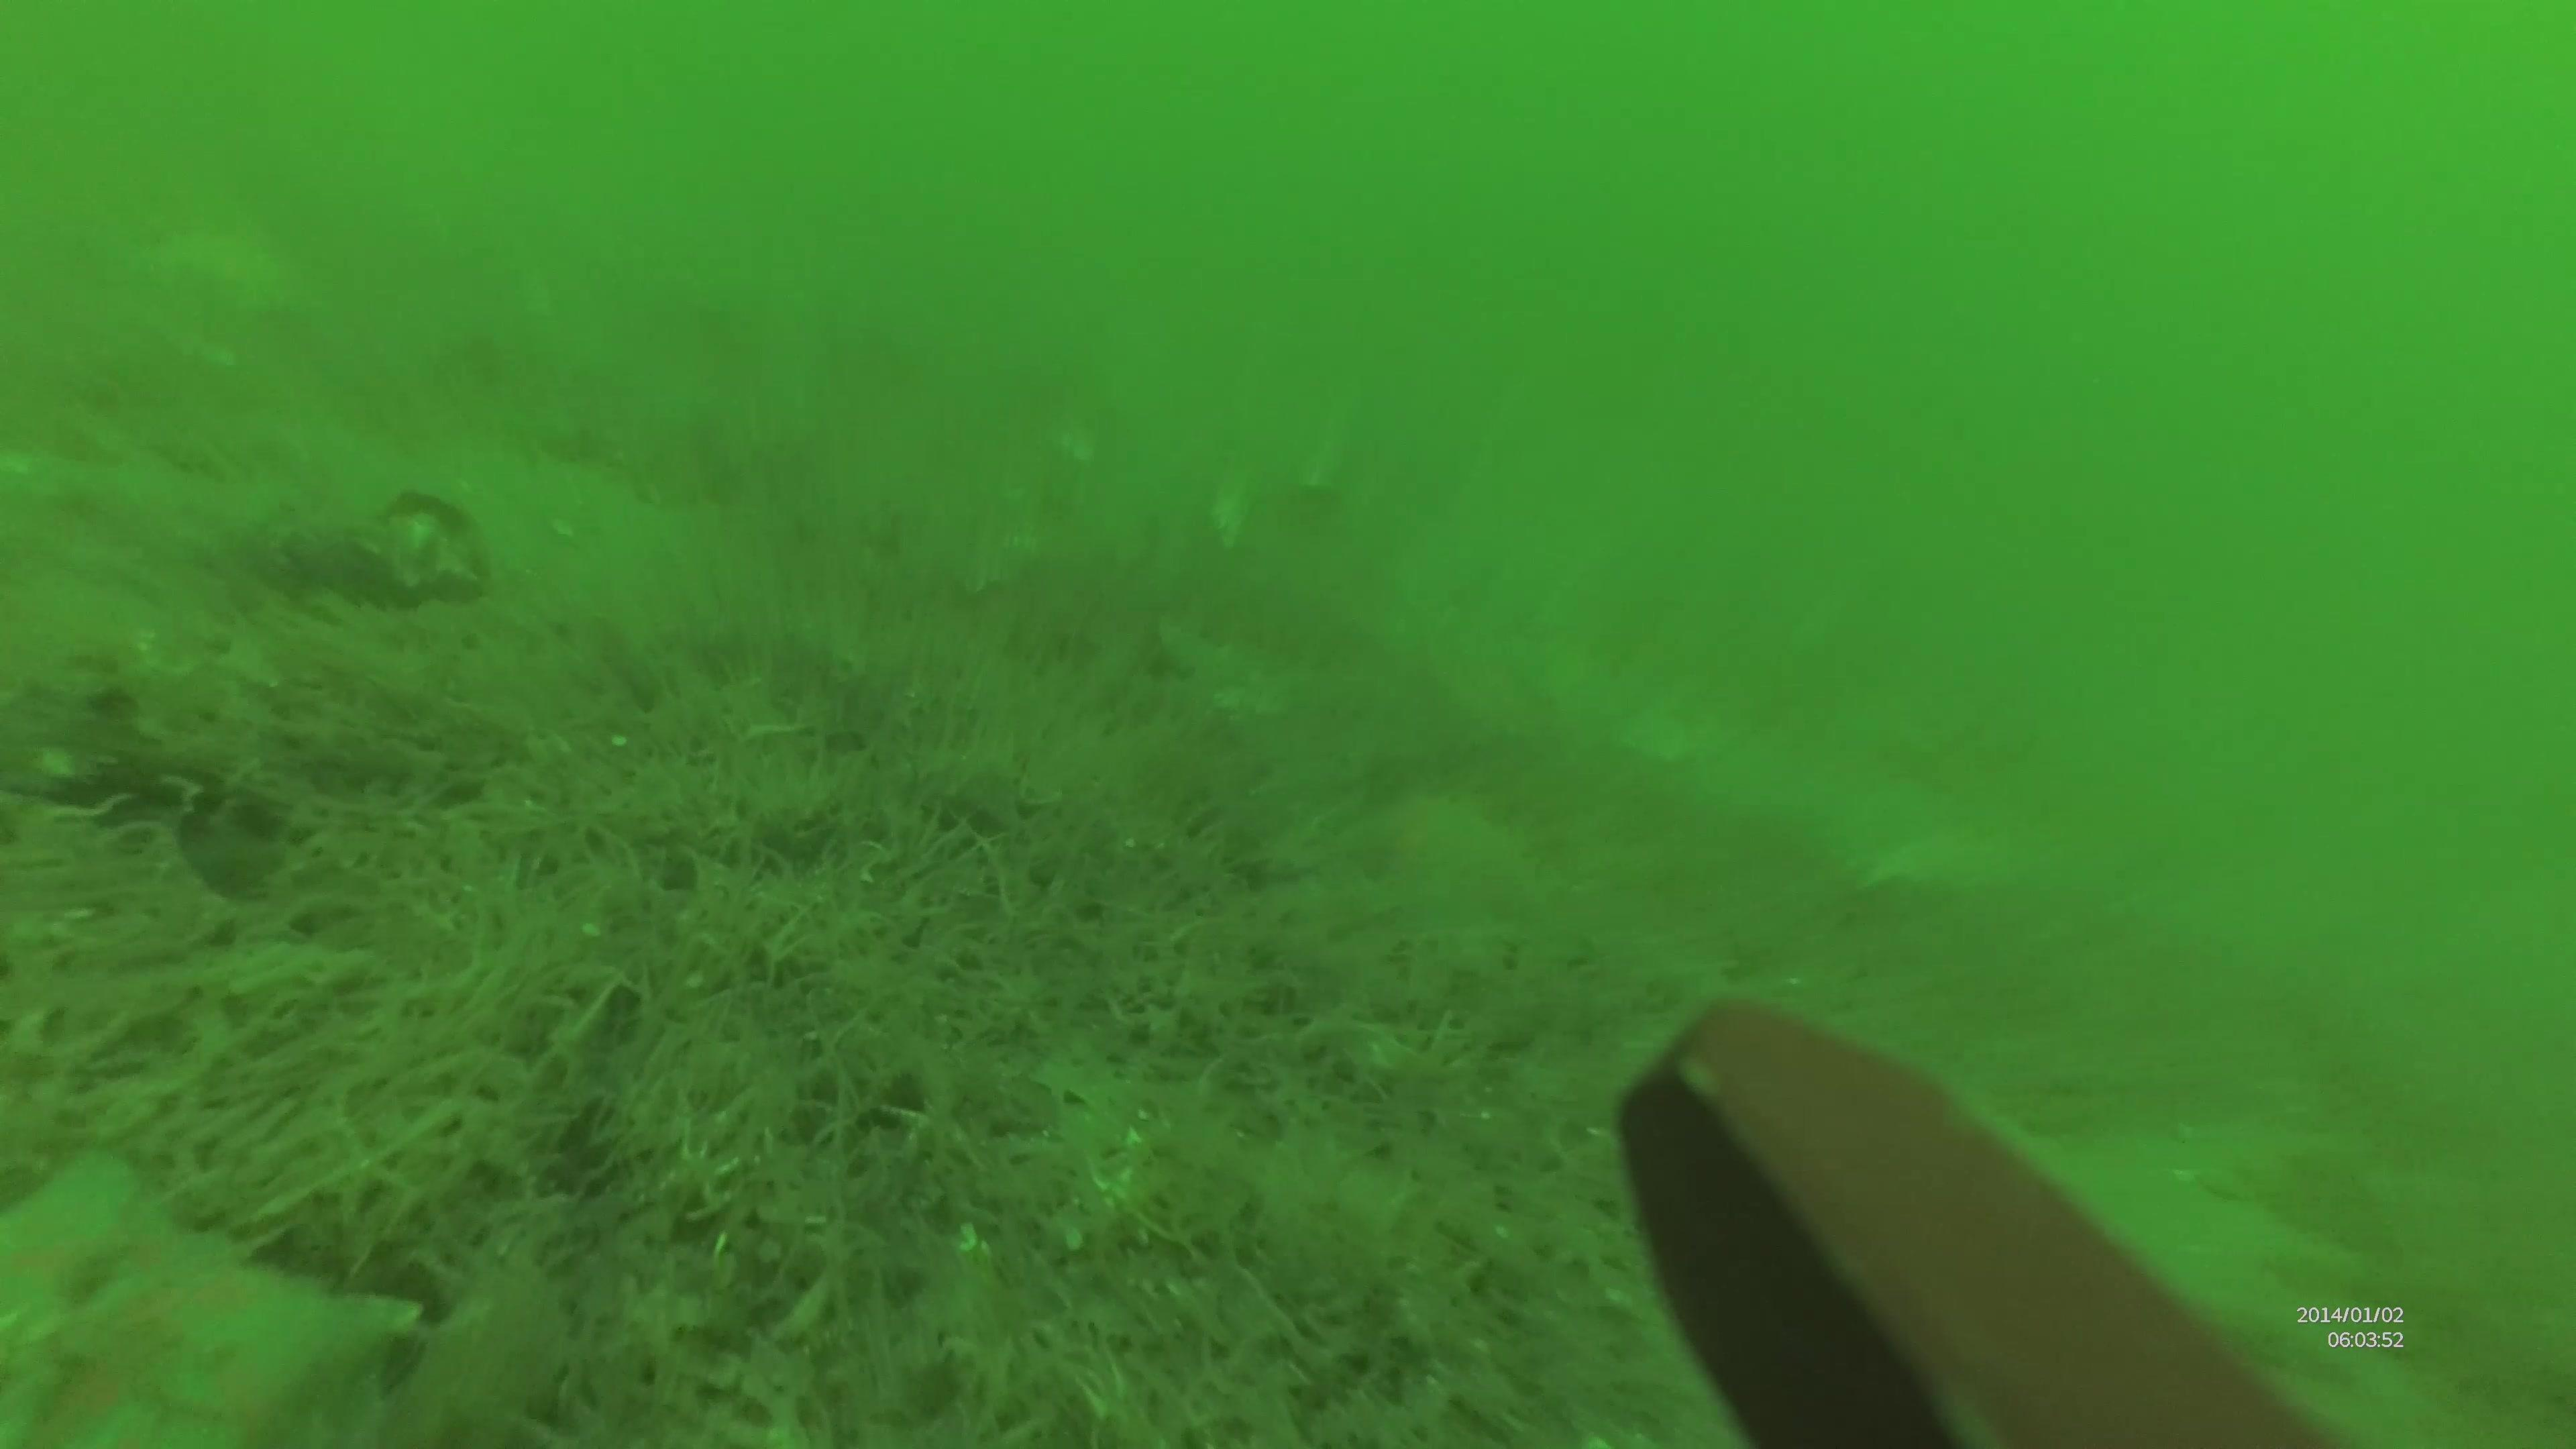holothurian: (202, 502, 479, 609)
